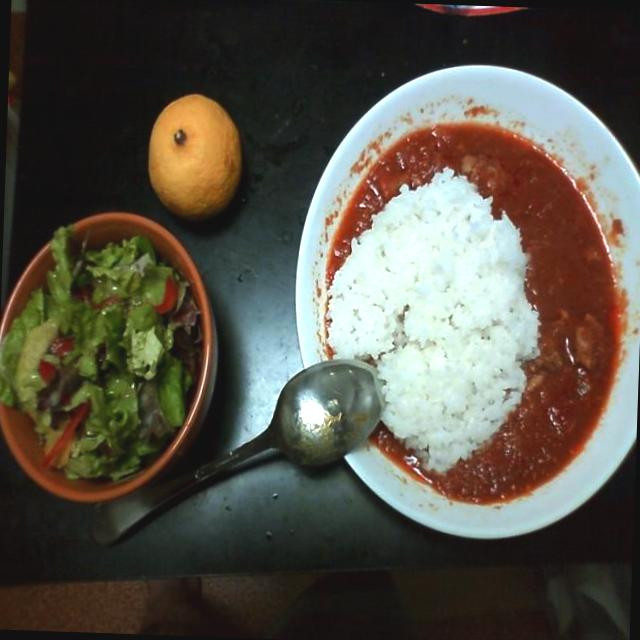Beef Curry: (300, 91, 640, 513)
Rice: (322, 170, 532, 458)
